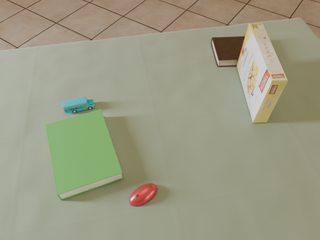book: (46, 109, 124, 200), (211, 36, 245, 67)
box: (237, 23, 288, 123)
mouse: (129, 183, 157, 206)
toy_car: (62, 97, 95, 113)
